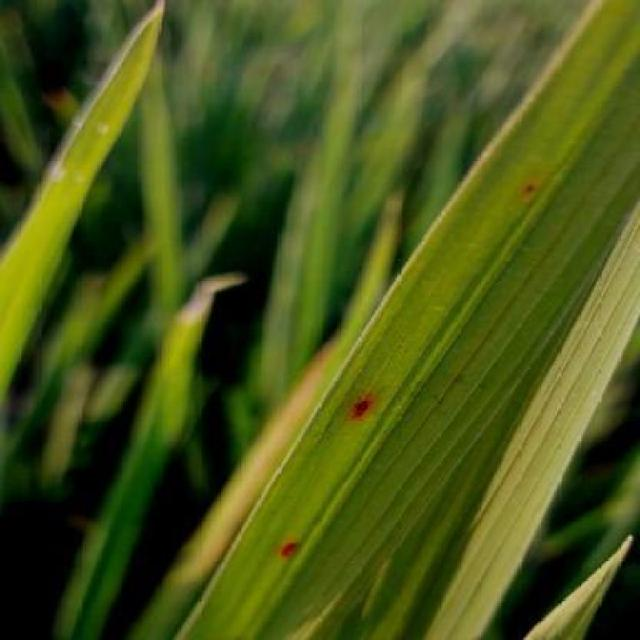Leaf_Blast: (336, 374, 389, 426), (505, 163, 547, 203), (270, 529, 313, 562), (620, 98, 640, 136)
